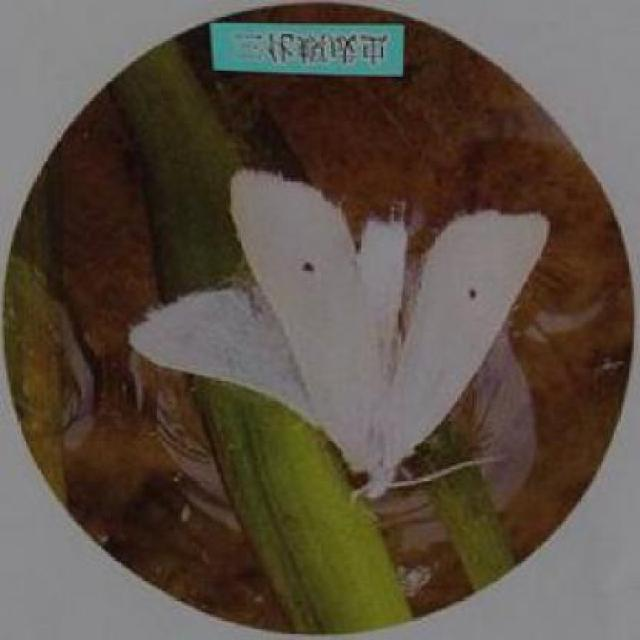stem-borer: (127, 170, 550, 505)
